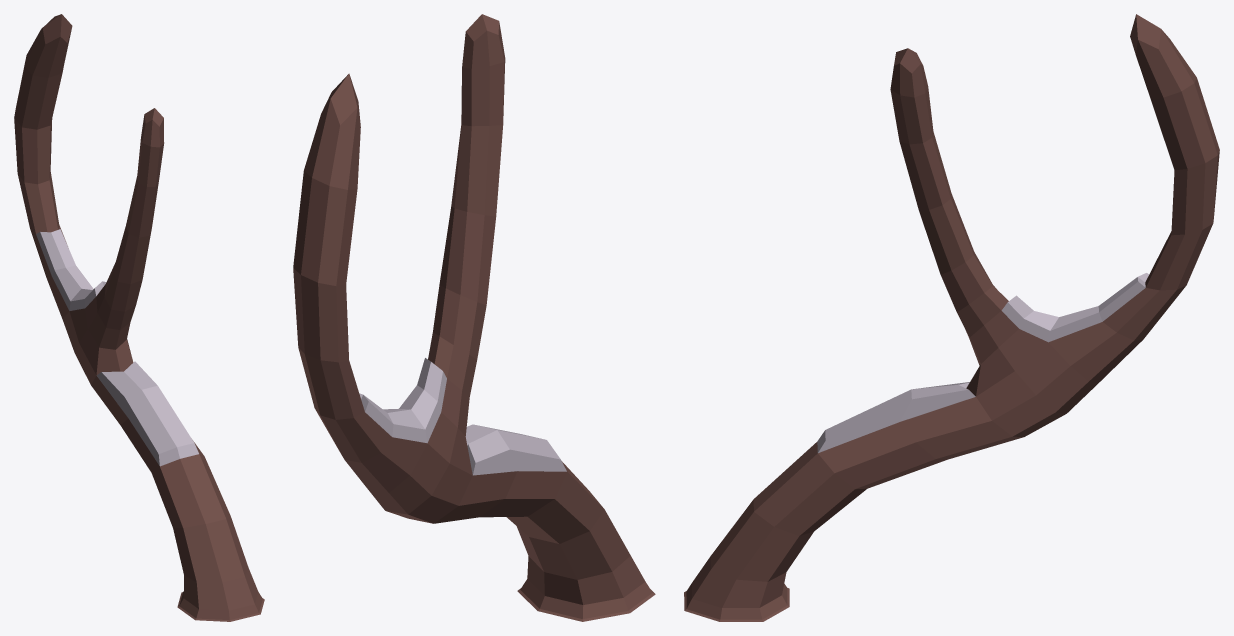
Rendered from Willow_Dead_Snow_3.glb.
3 views of the same model, side by side, from view 1: azimuth 30°, elevation 25°; view 2: azimuth 150°, elevation 25°; view 3: azimuth 270°, elevation 25° (orthographic). The views are drawn at different scales.
Visible parts, largest first — view 1: Willow_Dead_Snow_3; view 2: Willow_Dead_Snow_3; view 3: Willow_Dead_Snow_3.
Boxes of the visible parts, x1,y1,x2,y2 form: Willow_Dead_Snow_3: (14, 14, 264, 621); Willow_Dead_Snow_3: (293, 14, 655, 621); Willow_Dead_Snow_3: (684, 14, 1219, 621).
Size of the model in its own units: 0.3109 by 1.91 by 1.58.
